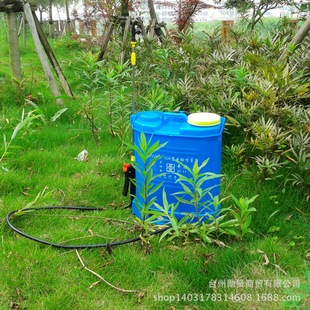berrl: (128, 110, 224, 232)
